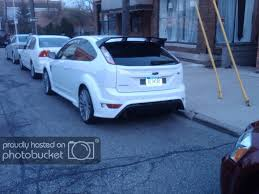car: (44, 35, 187, 126), (221, 120, 259, 192), (20, 34, 72, 77), (4, 34, 34, 59)
